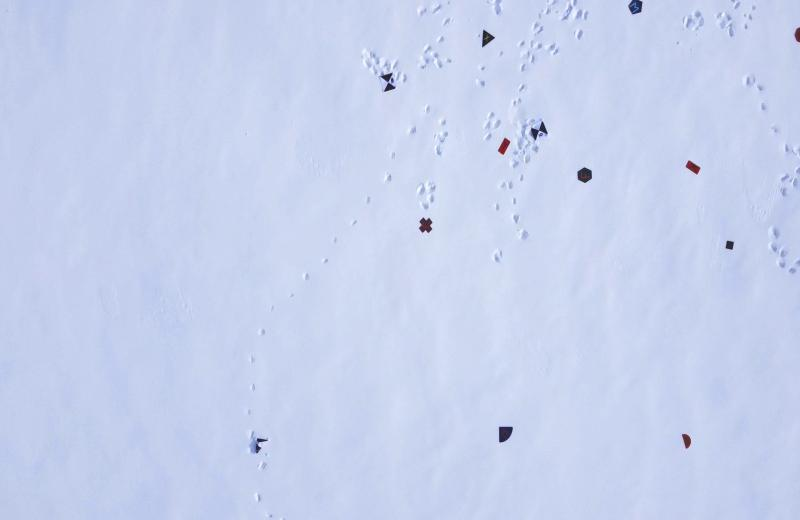Cross: (418, 216, 434, 234)
Hexagon: (576, 167, 593, 184)
Octagon: (794, 26, 800, 44)
Pentagon: (627, 0, 644, 16)
Quarter Circle: (497, 425, 514, 444)
Rectangle: (496, 137, 512, 156), (684, 159, 700, 177)
Semi Circle: (682, 433, 692, 450)
Square: (724, 240, 734, 250)
Triangle: (480, 28, 496, 49)
